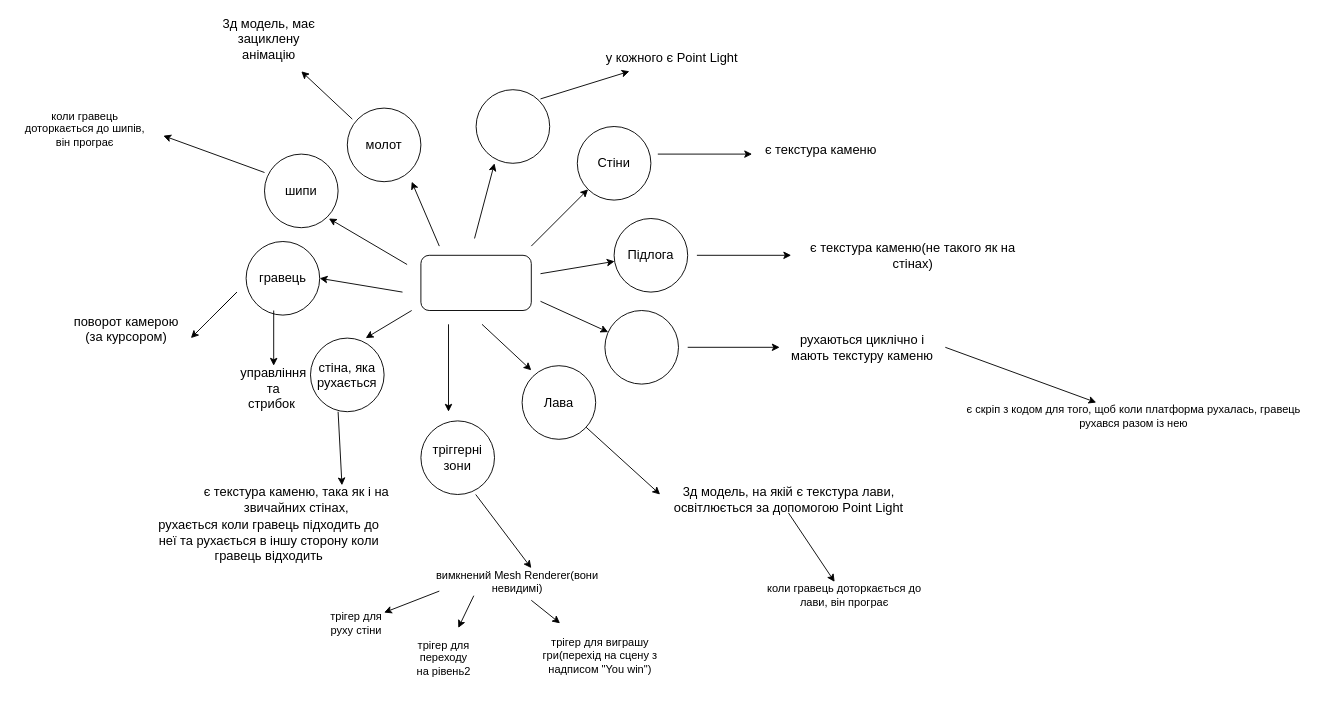
This 1319x703 diagram has some shape labels left out. Each missing label, with the box of its shape:
Об'єкти: (420, 254, 531, 310)
Платформи (2): (604, 310, 678, 384)
Світильники: (475, 89, 550, 163)
